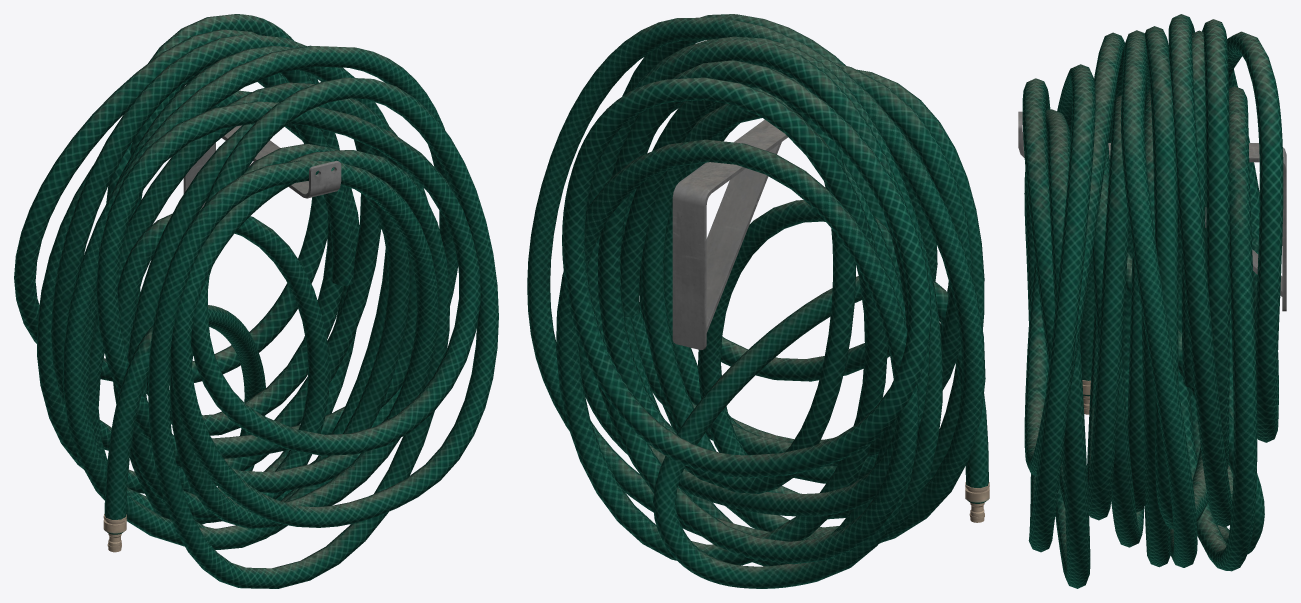
File: garden_hose_wall_mounted_01.glb
3 renders of one model, left to right at view 1: azimuth 30°, elevation 25°; view 2: azimuth 150°, elevation 25°; view 3: azimuth 270°, elevation 25°, orthographic. The views are drawn at different scales.
Parts seen in each view (by area): view 1: garden_hose_wall_bracket; view 2: garden_hose_wall_bracket; view 3: garden_hose_wall_bracket.
Part boxes in pixels (x1,y1,x2,y2): garden_hose_wall_bracket: [14, 14, 498, 588]; garden_hose_wall_bracket: [527, 14, 989, 588]; garden_hose_wall_bracket: [1018, 14, 1286, 588].
Size of the model in its own units: 0.4667 by 0.557 by 0.2503.
Materials: 1 (1 with a texture image).
